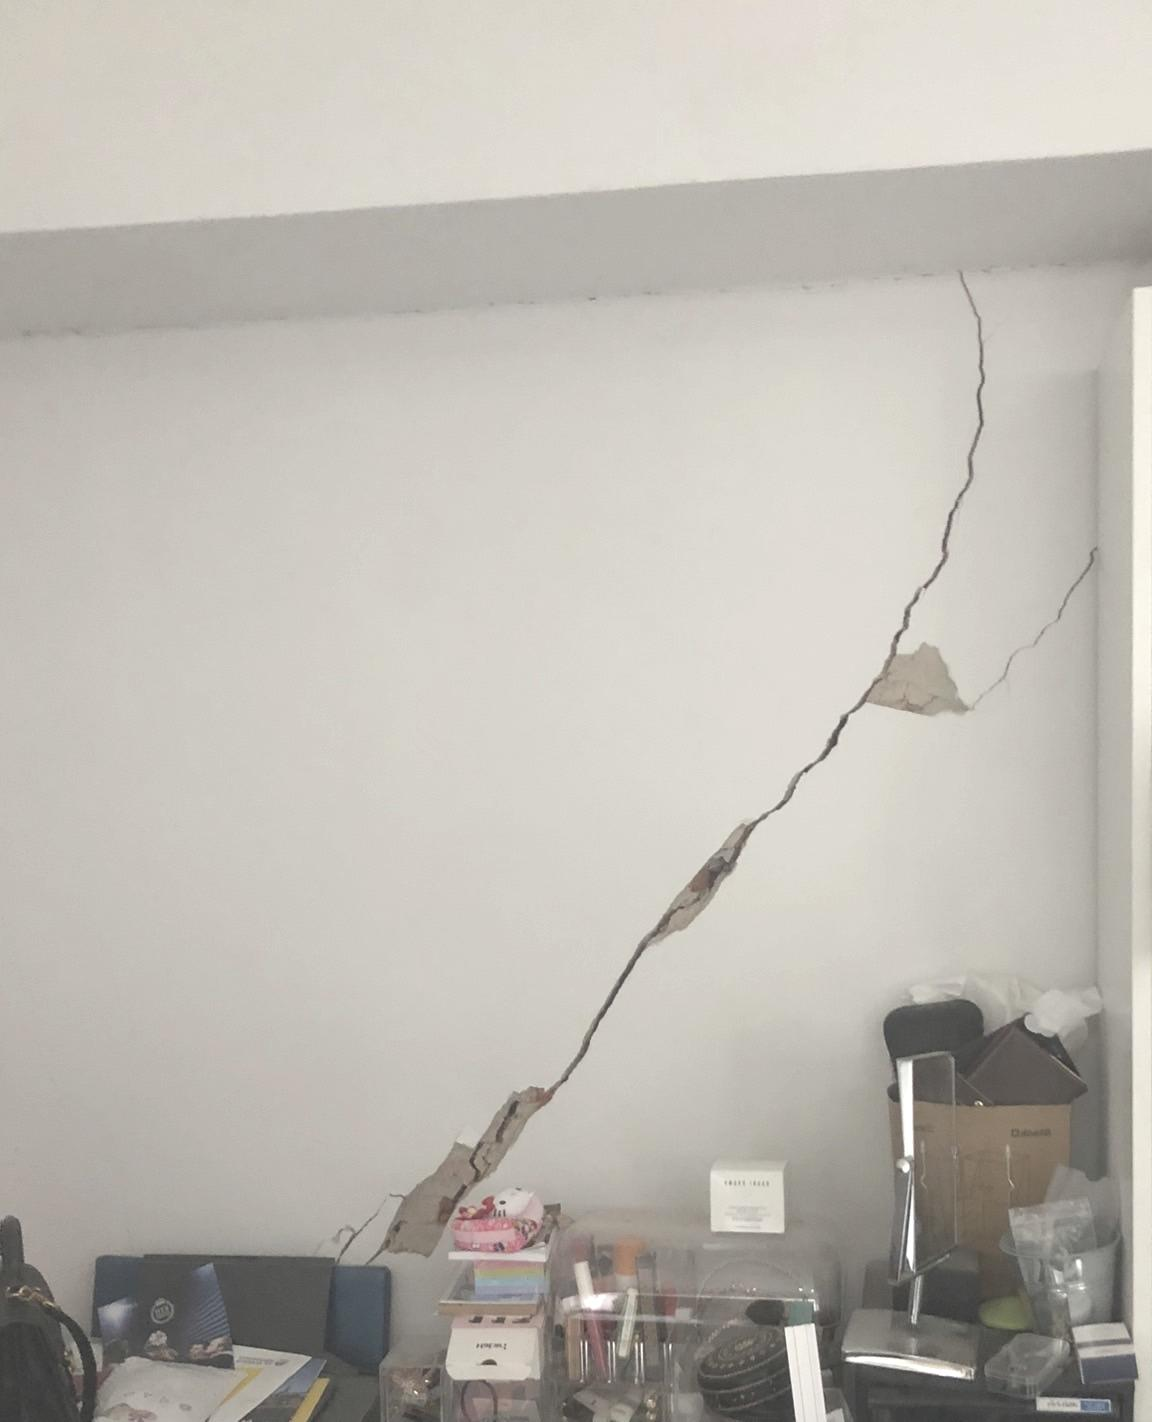High: (321, 266, 1109, 1275)
